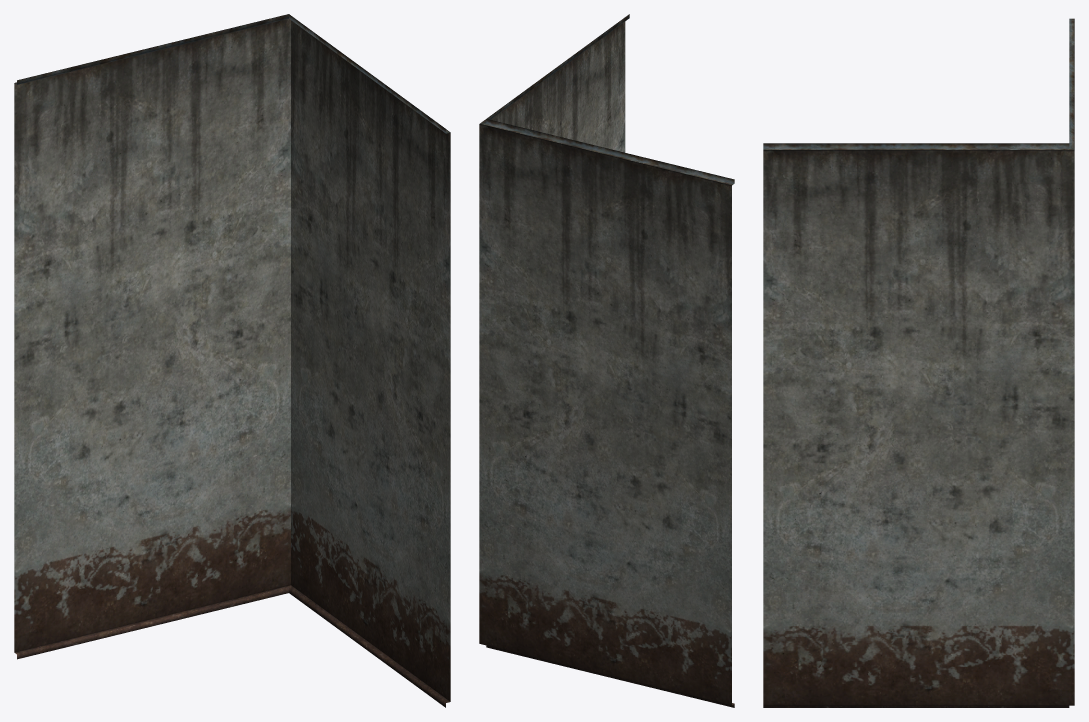
Rendered from scanningroom_damaged_concave.dae.
The picture shows the model from 3 angles, left to right: view 1: azimuth 30°, elevation 25°; view 2: azimuth 150°, elevation 25°; view 3: azimuth 270°, elevation 25°; orthographic projection. The views are drawn at different scales.
Visible parts, largest first — view 1: polySurface149; view 2: polySurface149; view 3: polySurface149.
Boxes of the visible parts, x1,y1,x2,y2 form: polySurface149: (14,14,450,707); polySurface149: (479,14,734,707); polySurface149: (763,18,1074,707).
Bounding box in the file's own units: 2 × 4 × 2.
